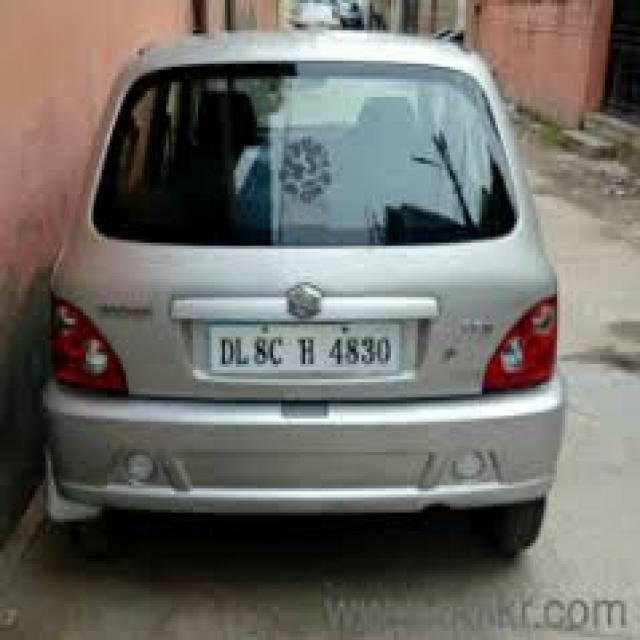Number-Plate: (211, 325, 401, 372)
